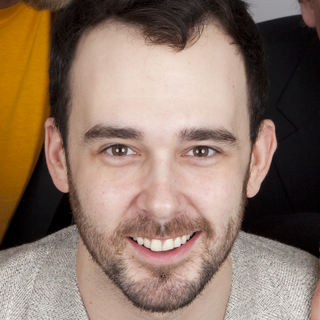eye: (95, 139, 142, 164), (180, 140, 228, 164)
